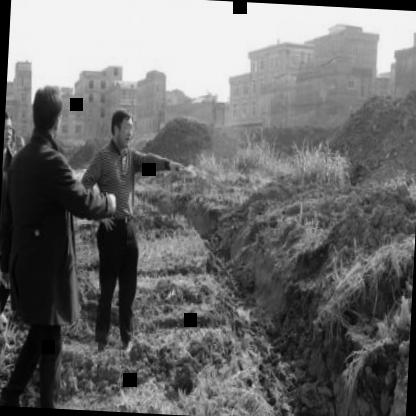head: (27, 83, 67, 145), (107, 105, 138, 150), (3, 108, 14, 156)
